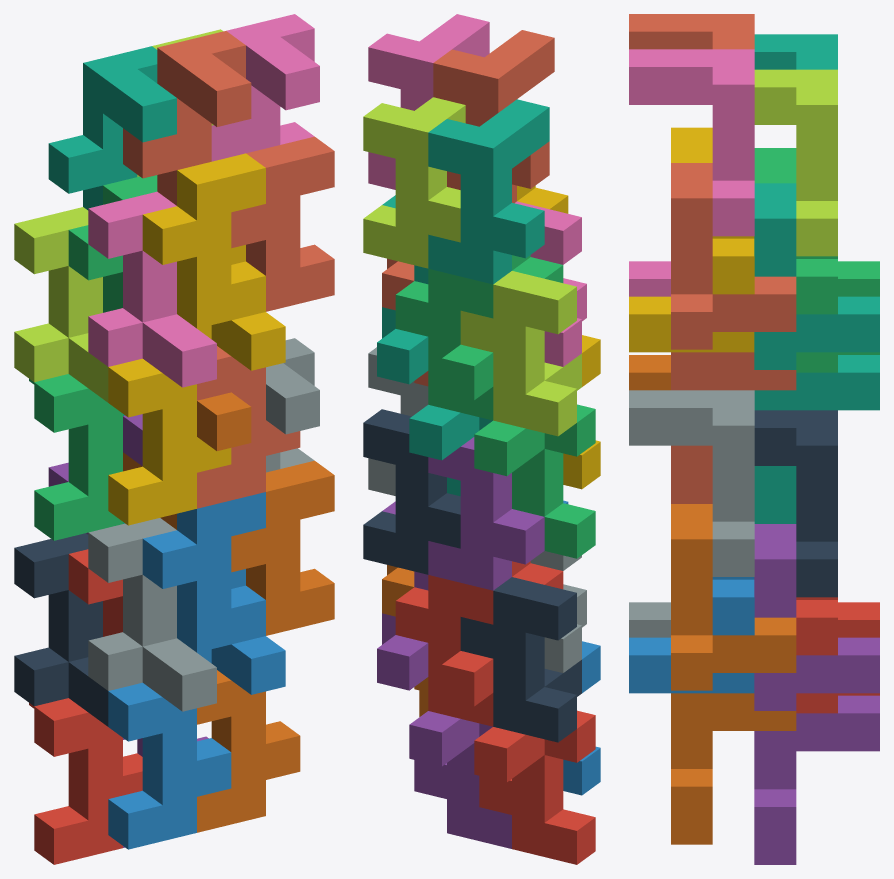
The model's file is tiling.obj.
3 renders of one model, left to right at view 1: azimuth 30°, elevation 25°; view 2: azimuth 150°, elevation 25°; view 3: azimuth 270°, elevation 25°, orthographic. The views are drawn at different scales.
Parts seen in each view (by area): view 1: copy_4_domain_4, copy_2_domain_4, copy_2_domain_2, copy_1_domain_2, copy_4_domain_2, copy_1_domain_4, copy_3_domain_3, copy_1_domain_1, copy_4_domain_8, copy_3_domain_4, copy_4_domain_6, copy_2_domain_3 (+12 smaller); view 2: copy_3_domain_3, copy_2_domain_1, copy_2_domain_3, copy_1_domain_1, copy_3_domain_7, copy_3_domain_1, copy_1_domain_3, copy_3_domain_5, copy_3_domain_4, copy_1_domain_5, copy_2_domain_7, copy_2_domain_5 (+14 smaller); view 3: copy_3_domain_8, copy_3_domain_6, copy_4_domain_6, copy_4_domain_8, copy_3_domain_5, copy_3_domain_7, copy_1_domain_5, copy_4_domain_5, copy_4_domain_7, copy_1_domain_6, copy_1_domain_7, copy_1_domain_8 (+12 smaller).
Part boxes in pixels (x1,y1,x2,y2): copy_4_domain_4: [142, 153, 265, 328]; copy_2_domain_4: [88, 191, 216, 387]; copy_2_domain_2: [88, 518, 216, 711]; copy_1_domain_2: [108, 682, 231, 849]; copy_4_domain_2: [142, 492, 265, 652]; copy_1_domain_4: [108, 358, 231, 525]; copy_3_domain_3: [48, 46, 176, 210]; copy_1_domain_1: [29, 698, 142, 864]; copy_4_domain_8: [231, 136, 334, 311]; copy_3_domain_4: [123, 31, 251, 205]; copy_4_domain_6: [231, 460, 334, 635]; copy_2_domain_3: [14, 207, 108, 402]; copy_3_domain_3: [428, 99, 549, 284]; copy_2_domain_1: [460, 577, 581, 742]; copy_2_domain_3: [460, 271, 581, 436]; copy_1_domain_1: [474, 710, 595, 864]; copy_3_domain_7: [363, 97, 465, 268]; copy_3_domain_1: [428, 437, 544, 590]; copy_1_domain_3: [474, 404, 595, 558]; copy_3_domain_5: [363, 409, 460, 574]; copy_3_domain_4: [433, 30, 554, 203]; copy_1_domain_5: [409, 711, 511, 848]; copy_2_domain_7: [395, 268, 493, 420]; copy_2_domain_5: [395, 575, 493, 726]; copy_3_domain_8: [629, 49, 754, 236]; copy_3_domain_6: [629, 390, 754, 576]; copy_4_domain_6: [671, 504, 796, 690]; copy_4_domain_8: [671, 163, 796, 349]; copy_3_domain_5: [754, 410, 837, 597]; copy_3_domain_7: [754, 69, 837, 256]; copy_1_domain_5: [754, 695, 879, 864]; copy_4_domain_5: [754, 524, 879, 710]; copy_4_domain_7: [754, 183, 879, 369]; copy_1_domain_6: [671, 693, 796, 844]; copy_1_domain_7: [754, 355, 879, 523]; copy_1_domain_8: [671, 352, 796, 503].
Bounding box in the file's own units: 7 × 22 × 6.
